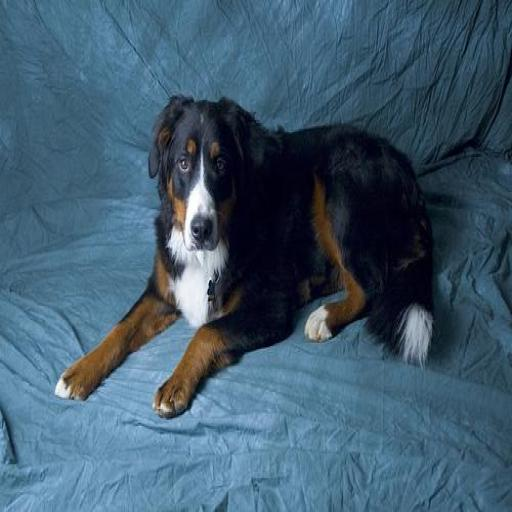dog_face: (145, 93, 261, 253)
